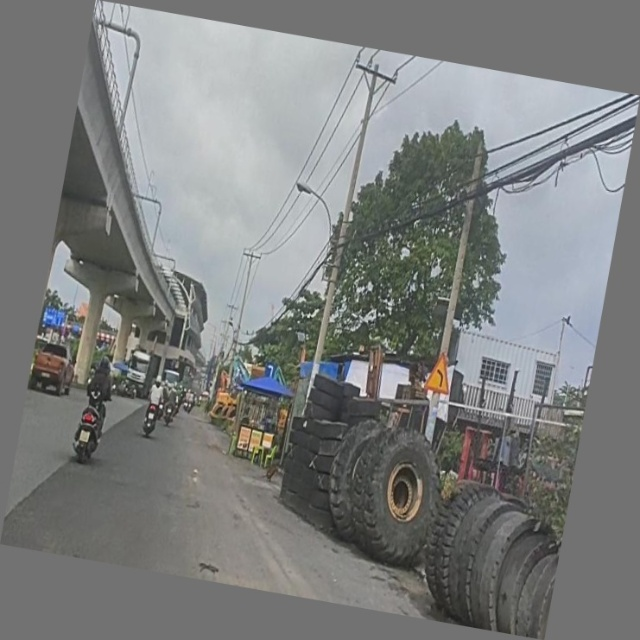R.301e: (263, 360, 277, 379)
W.201a: (424, 349, 456, 396)
